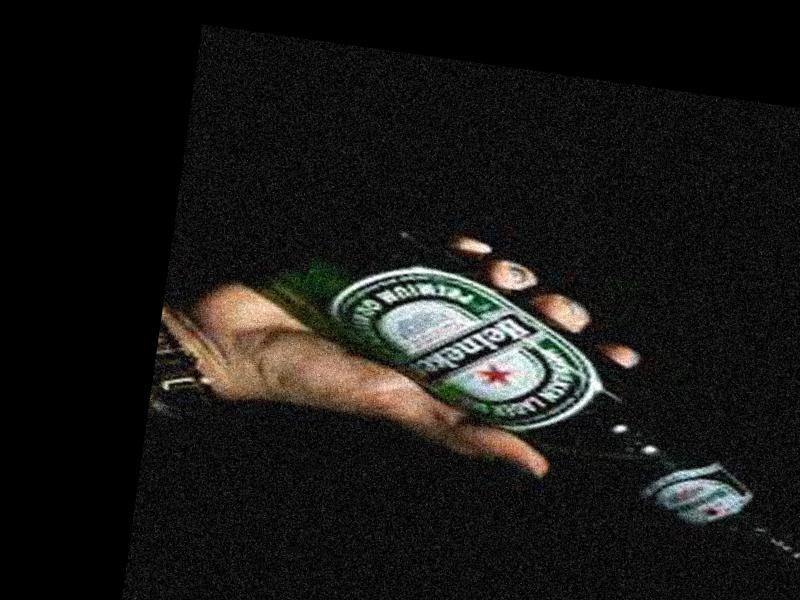Beer: (211, 198, 800, 574)
